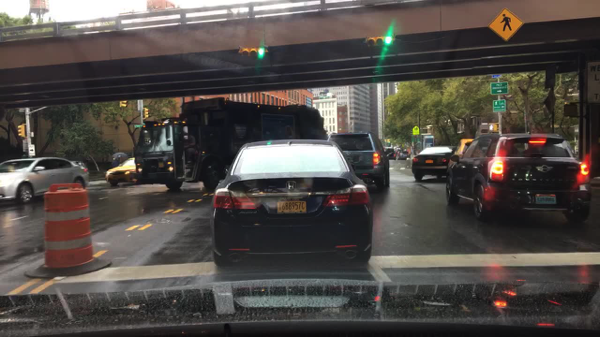car: (208, 139, 373, 268), (444, 134, 590, 226), (0, 157, 90, 205), (327, 132, 390, 191), (446, 123, 491, 167), (412, 144, 457, 184), (104, 157, 141, 186), (384, 147, 397, 161), (396, 149, 410, 161), (72, 161, 85, 168)
person: (111, 152, 128, 169)
traffic light: (239, 46, 270, 59), (365, 37, 394, 49), (564, 103, 579, 118), (487, 123, 497, 132), (18, 124, 24, 138), (143, 107, 150, 119), (119, 102, 126, 110)
traffic sign: (486, 8, 522, 41), (586, 60, 599, 104), (490, 82, 507, 95), (492, 100, 504, 110), (28, 143, 35, 157), (412, 125, 420, 135), (137, 98, 143, 110), (410, 138, 419, 143), (134, 124, 142, 129)
truck: (132, 97, 327, 190)
